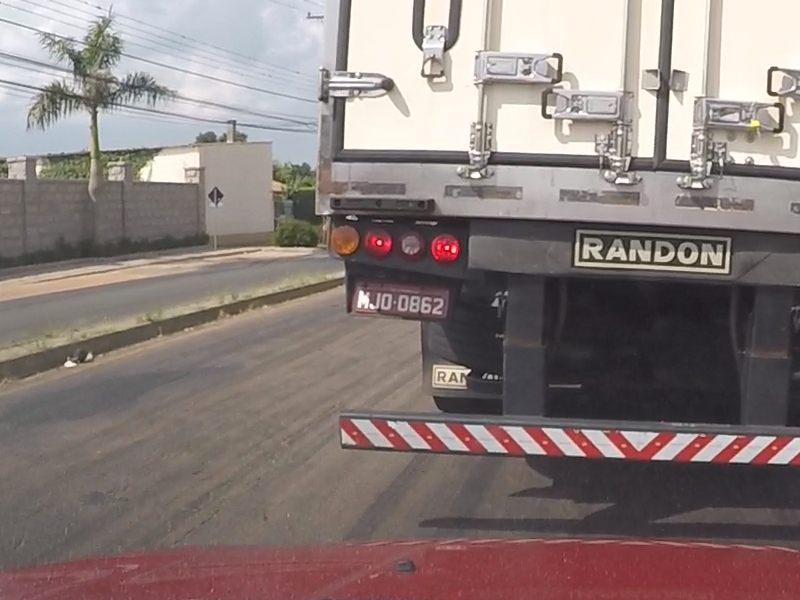placa: (352, 282, 449, 318)
